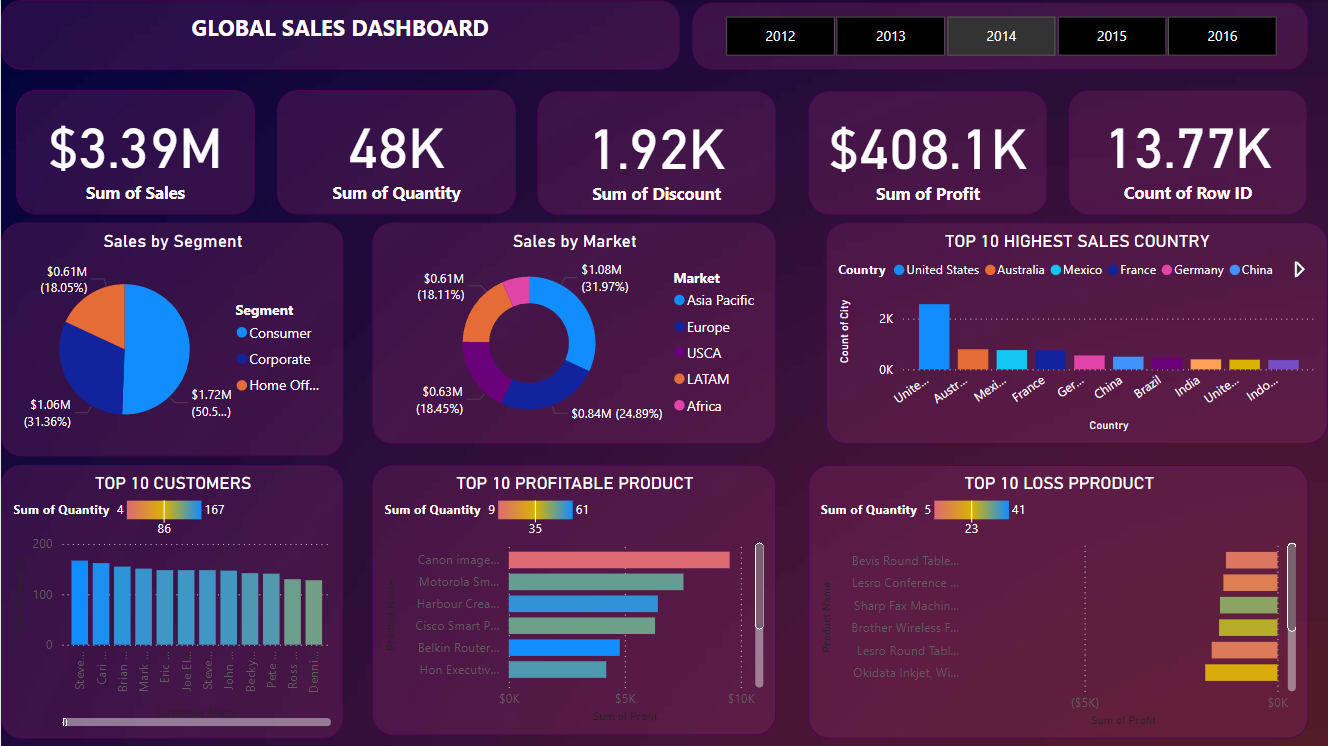

The dashboard page shown, as its layout file describes it:
{"tool":"powerbi","page":{"name":"Page 1","canvas":[1280,720],"ordinal":0},"visuals":[{"type":"pieChart","title":" Sales by Segment","fields":{"Category":["Orders.Segment"],"Y":["Orders.Sales"]},"box":[0,214.7,330.6,225.6],"z":0},{"type":"donutChart","title":"Sales by Market","fields":{"Y":["Orders.Sales"],"Category":["Orders.Market"]},"box":[358.3,214.7,389.7,213.5],"z":1},{"type":"columnChart","title":"TOP 10 CUSTOMERS","fields":{"Y":["Orders.Quantity"],"Category":["Orders.Customer Name"]},"box":[0,448.8,330.6,264.2],"z":2},{"type":"barChart","title":"TOP 10 PROFITABLE PRODUCT","fields":{"Category":["Orders.Product Name"],"Y":["Orders.Profit"]},"box":[358.3,448.8,389.7,260.6],"z":3},{"type":"barChart","title":"TOP 10 LOSS PPRODUCT","fields":{"Category":["Orders.Product Name"],"Y":["Orders.Profit"]},"box":[779.4,448.8,482.6,264.2],"z":4},{"type":"lineStackedColumnComboChart","title":"TOP 10 HIGHEST SALES COUNTRY","fields":{"Category":["Orders.Country"],"Y":["Orders.City"],"Series":["Orders.Country"]},"box":[796.3,214.7,483.8,213.5],"z":5},{"type":"card","fields":{"Values":["Orders.Sales"]},"box":[14.5,86.9,230,120],"z":6},{"type":"card","fields":{"Values":["Orders.Profit"]},"box":[779.4,88.1,230.4,119.4],"z":7},{"type":"card","fields":{"Values":["Orders.Discount"]},"box":[517.6,88.1,230.4,119.4],"z":8},{"type":"card","fields":{"Values":["Orders.Quantity"]},"box":[266.6,86.9,230,120],"z":9},{"type":"textbox","box":[0,0,655.1,67.6],"z":10},{"type":"slicer","fields":{"Values":["Orders.Ship Date.Variation.Date Hierarchy.Year"]},"box":[667.2,2.4,594.8,65.1],"z":11},{"type":"card","fields":{"Values":["Orders.Row ID"]},"box":[1030.5,86.4,230.5,120.8],"z":12}]}

Visuals, with their boxes in screenshot pixels (x1, y1, x2, y2), scaled from the page's 1280x720 canvas onto the 1328x746 screenshot:
" Sales by Segment" pieChart: 0/222/343/456
"Sales by Market" donutChart: 372/222/776/444
"TOP 10 CUSTOMERS" columnChart: 0/465/343/739
"TOP 10 PROFITABLE PRODUCT" barChart: 372/465/776/735
"TOP 10 LOSS PPRODUCT" barChart: 809/465/1309/739
"TOP 10 HIGHEST SALES COUNTRY" lineStackedColumnComboChart: 826/222/1327/444
card - Orders.Sales: 15/90/254/214
card - Orders.Profit: 809/91/1048/215
card - Orders.Discount: 537/91/776/215
card - Orders.Quantity: 277/90/515/214
textbox: 0/0/680/70
slicer - Orders.Ship Date.Variation.Date Hierarchy.Year: 692/2/1309/70
card - Orders.Row ID: 1069/90/1308/215
